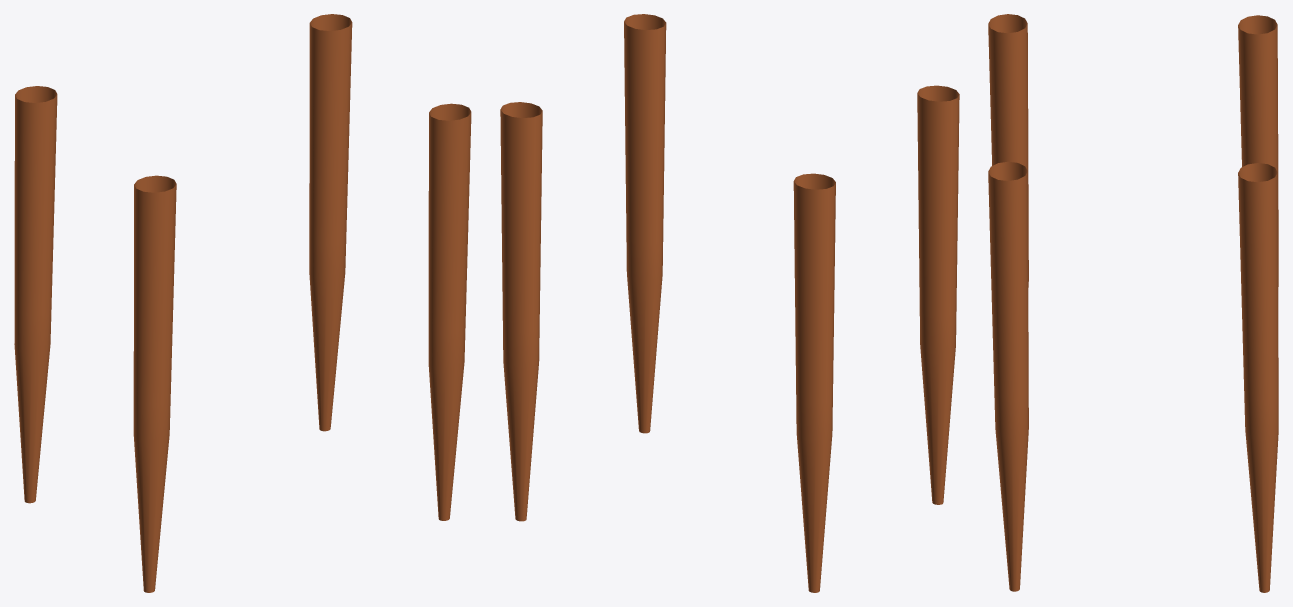
File: sandalye_ayak (3).fbx
The picture shows the model from 3 angles, left to right: view 1: azimuth 30°, elevation 25°; view 2: azimuth 150°, elevation 25°; view 3: azimuth 270°, elevation 25°; orthographic projection. The views are drawn at different scales.
Visible parts, largest first — view 1: Cylinder.002; view 2: Cylinder.002; view 3: Cylinder.002.
Part boxes in pixels (<box>): Cylinder.002: <box>14,14,471,592</box>; Cylinder.002: <box>500,14,959,592</box>; Cylinder.002: <box>988,14,1278,592</box>.
Bounding box in the file's own units: 23230 × 27051 × 16983.
1 material, 1 textured.
